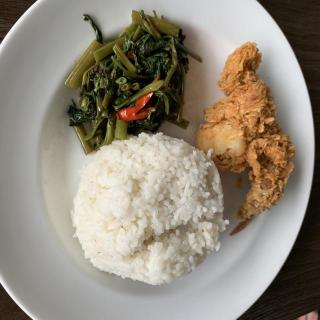Nasi: (76, 136, 224, 286)
